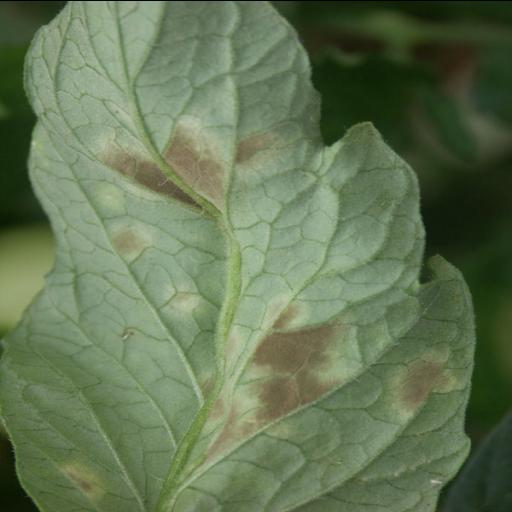Leaf Mold: (0, 3, 478, 512)
